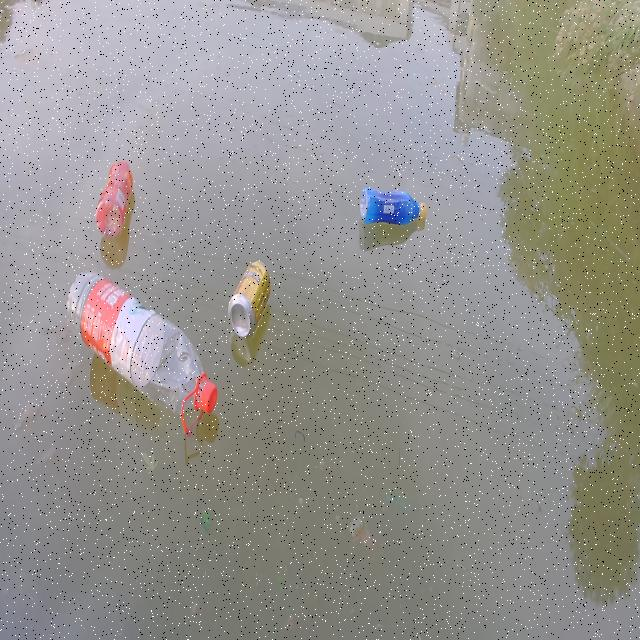Bottle: (63, 269, 219, 435), (355, 181, 431, 238), (91, 149, 137, 239)
Can: (224, 255, 276, 342)
